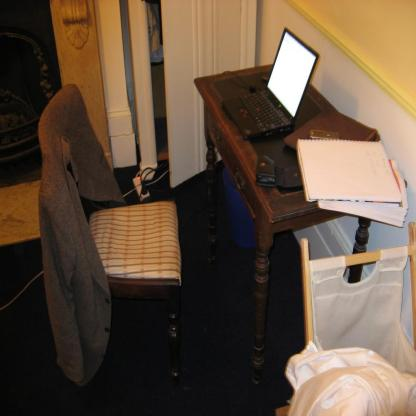board: (220, 27, 320, 140)
